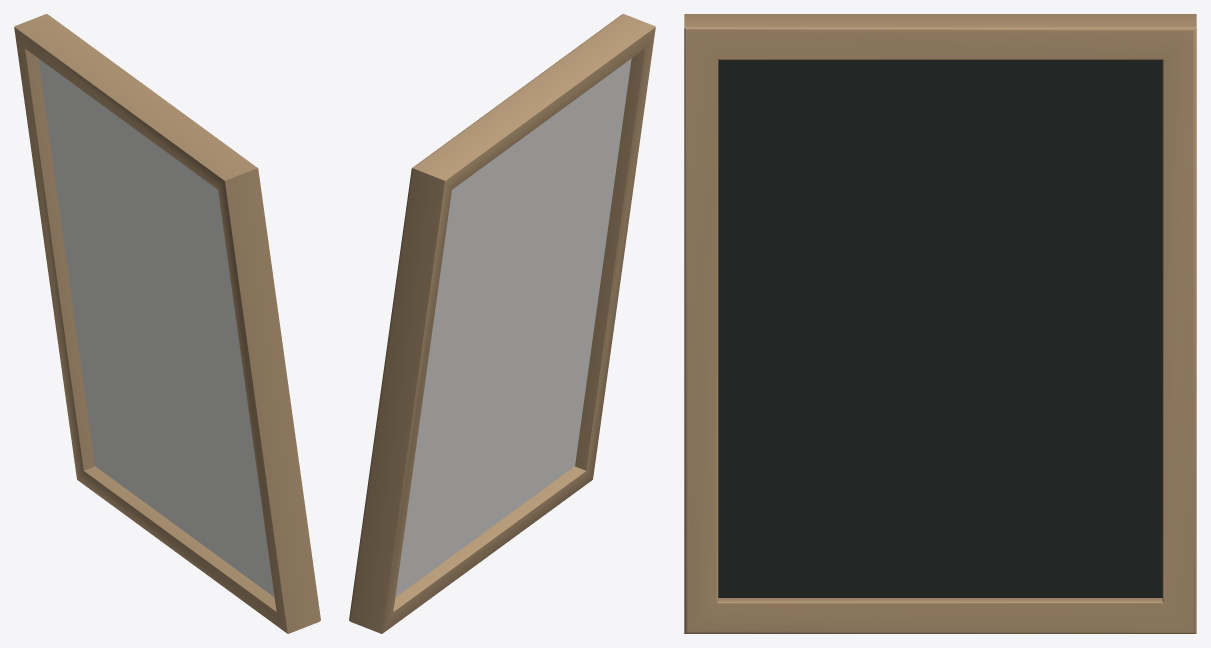
The model's file is framed_print.fbx.
The picture shows the model from 3 angles, left to right: view 1: azimuth 30°, elevation 25°; view 2: azimuth 150°, elevation 25°; view 3: azimuth 270°, elevation 25°; orthographic projection. The views are drawn at different scales.
Visible parts, largest first — view 1: framed_print; view 2: framed_print; view 3: framed_print.
Part boxes in pixels (x1,y1,x2,y2): framed_print: (14,14,320,633); framed_print: (349,14,655,633); framed_print: (684,14,1196,633).
Bounding box in the file's own units: 0.0557 × 0.21 × 0.26.
